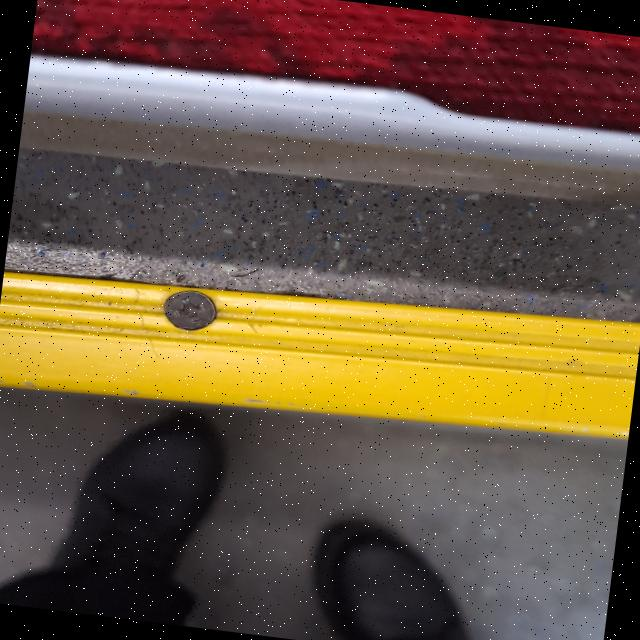Pozidriv: (151, 286, 219, 334)
